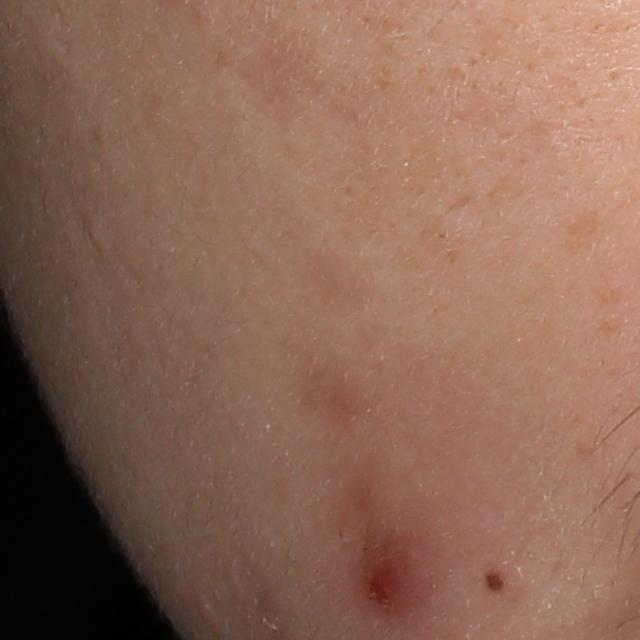atrophic_scar: (440, 190, 477, 218)
nevus: (483, 570, 505, 593)
